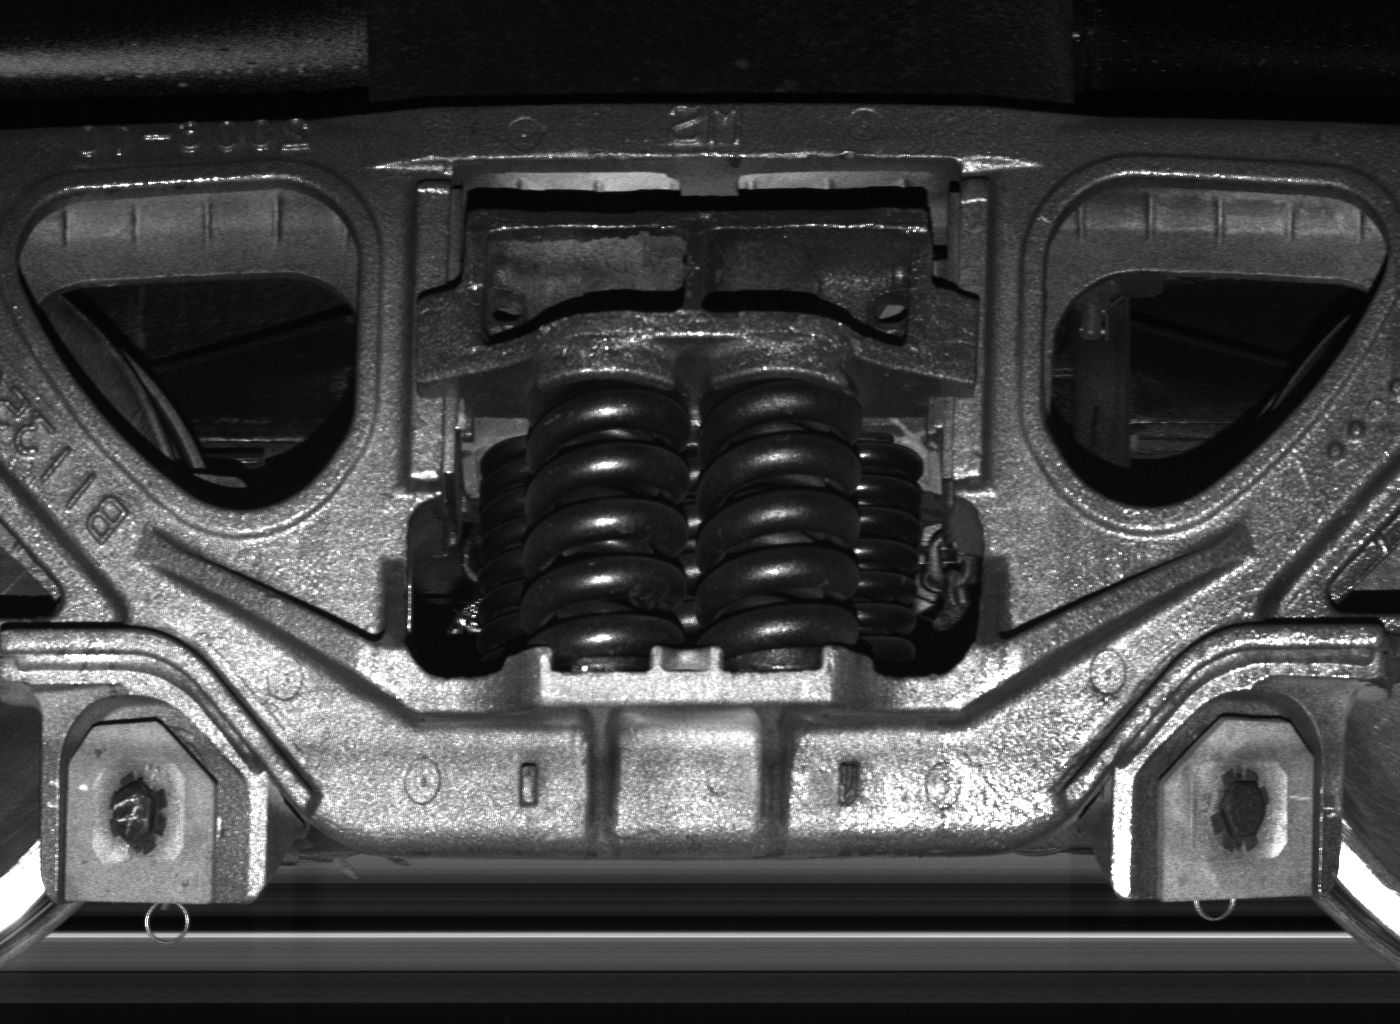normal: (1110, 686, 1348, 902), (42, 689, 268, 904)
